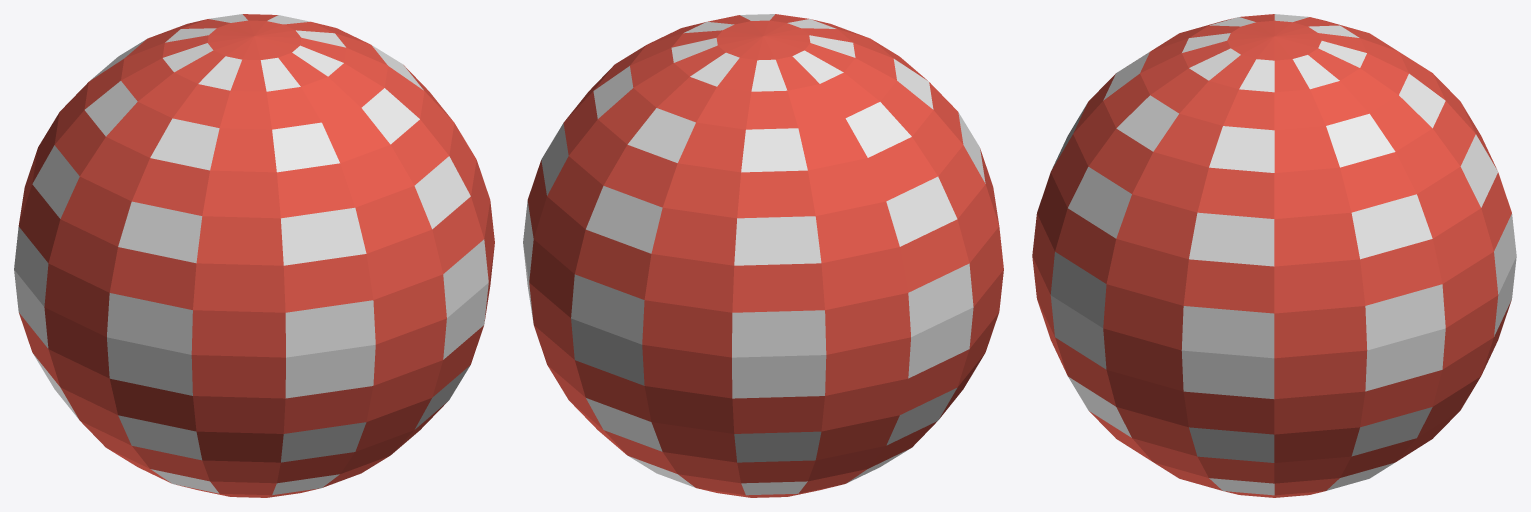
Rendered from globo.glb.
The picture shows the model from 3 angles, left to right: view 1: azimuth 30°, elevation 25°; view 2: azimuth 150°, elevation 25°; view 3: azimuth 270°, elevation 25°; orthographic projection.
Visible parts, largest first — view 1: Sphere.001, Sphere; view 2: Sphere.001, Sphere; view 3: Sphere.001, Sphere.
Part boxes in pixels (bbox=[...]): Sphere.001: bbox=[18, 14, 494, 497]; Sphere: bbox=[14, 14, 488, 495]; Sphere.001: bbox=[527, 14, 1003, 497]; Sphere: bbox=[523, 14, 985, 495]; Sphere.001: bbox=[1032, 14, 1511, 497]; Sphere: bbox=[1050, 14, 1516, 495].
Size of the model in its own units: 2 by 2 by 2.
